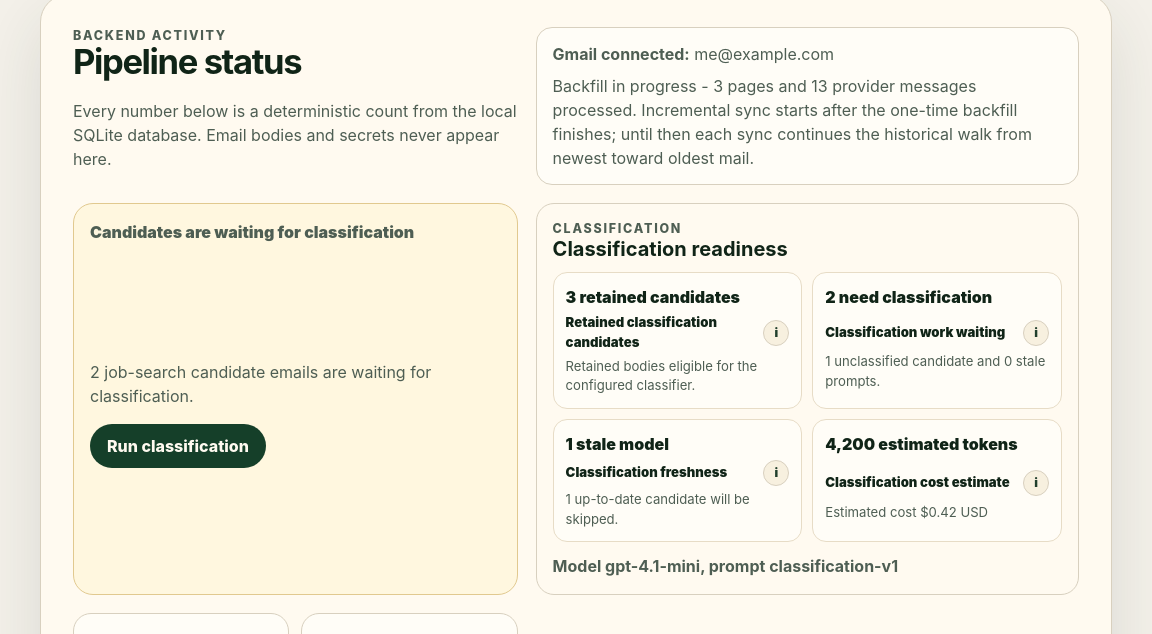
it: App › explains classification work waiting through an accessible info control
(page scrolled)
Expected: the text "2 need classification" is shown, [825,287,992,307]
Focus the button named "About Classification work waiting" at (1036, 333), box [1023,320,1049,346]
(page scrolled)
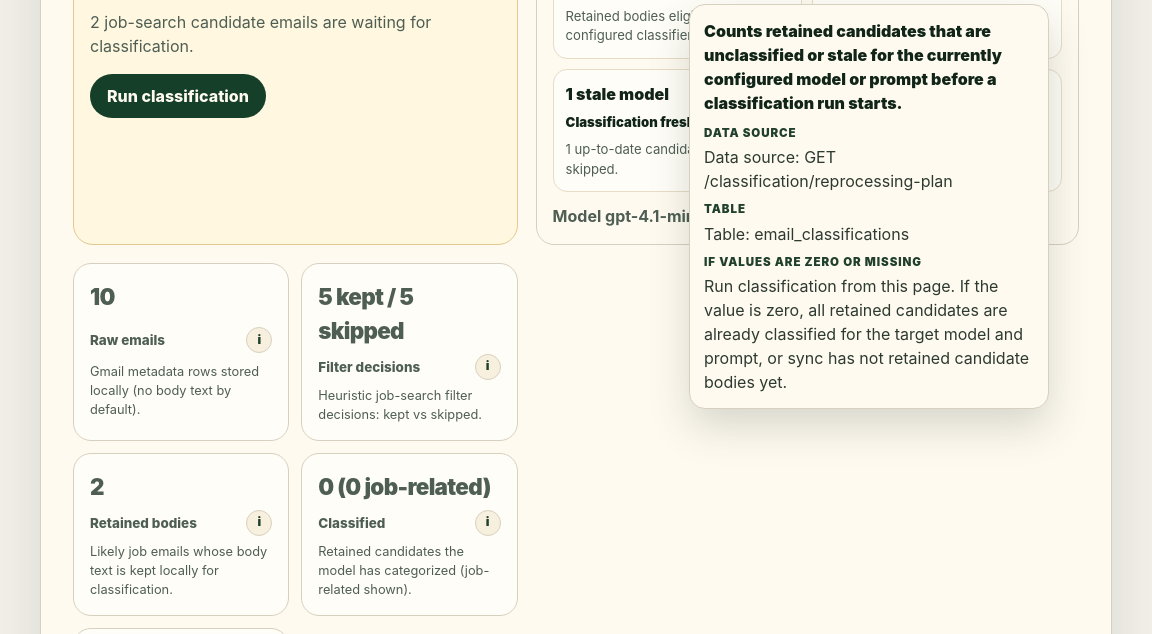
Result: the text "Data source: GET /classification/reprocessing-plan" is shown at [704,147,953,191]
Result: the text "Table: email_classifications" is shown at [704,224,909,244]
Result: the text "Run classification from this page. If the value is zero, all retained candidates are already classified for the target m" is shown at [704,276,1029,392]
